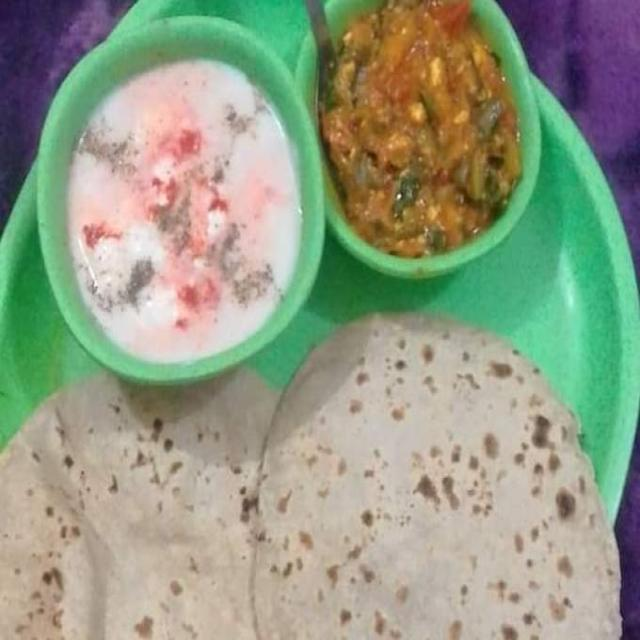BAJI: (322, 3, 524, 265)
ROTI: (2, 312, 623, 639)
